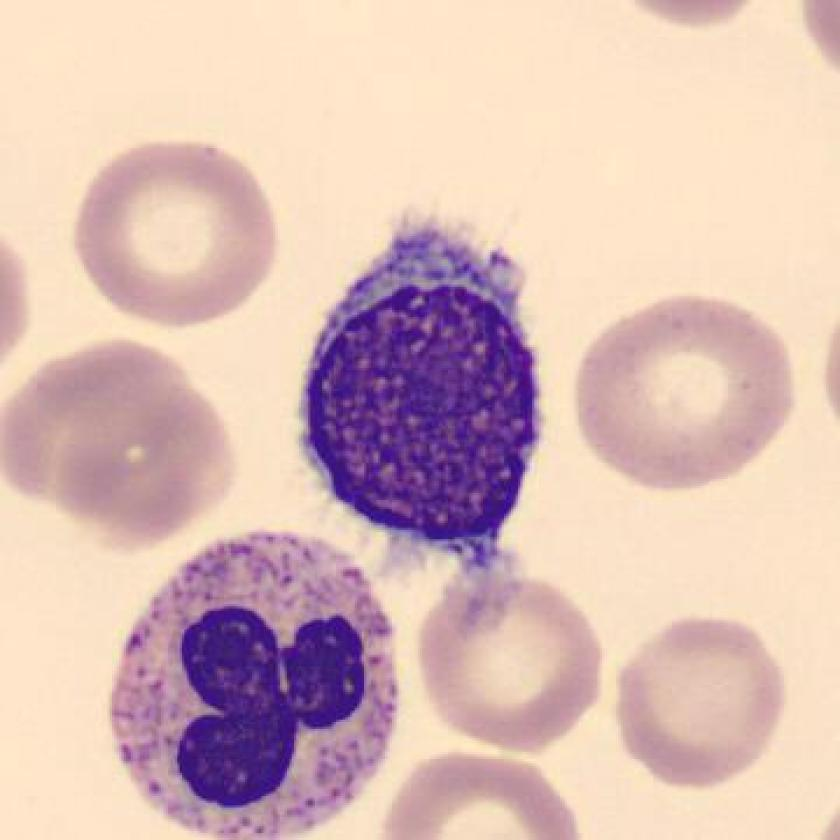lymphocyte: (281, 202, 556, 598)
neutrophil: (102, 527, 408, 840)
